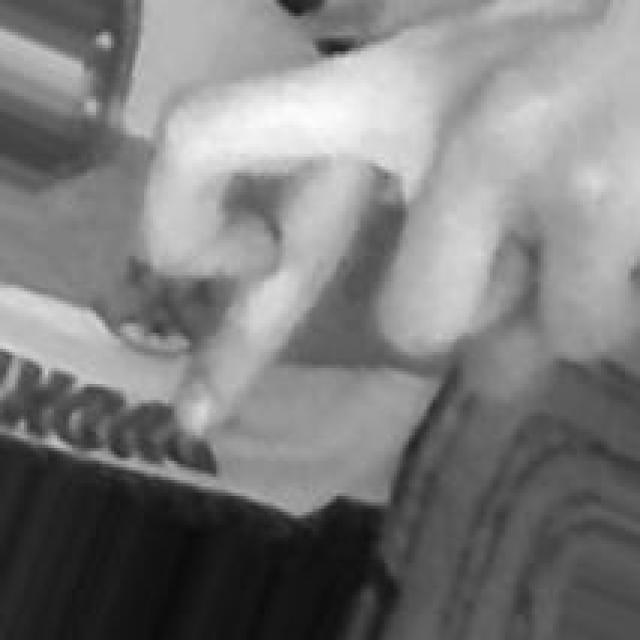P: (138, 0, 640, 442)
